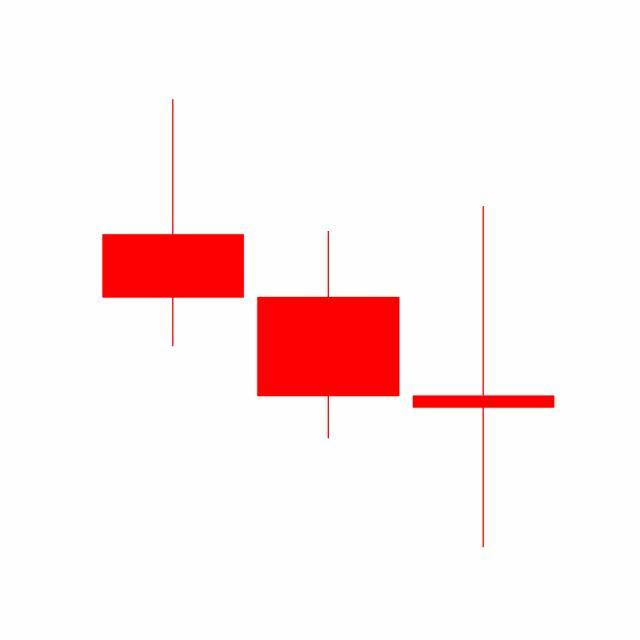Spinning Top: (406, 203, 562, 552)
